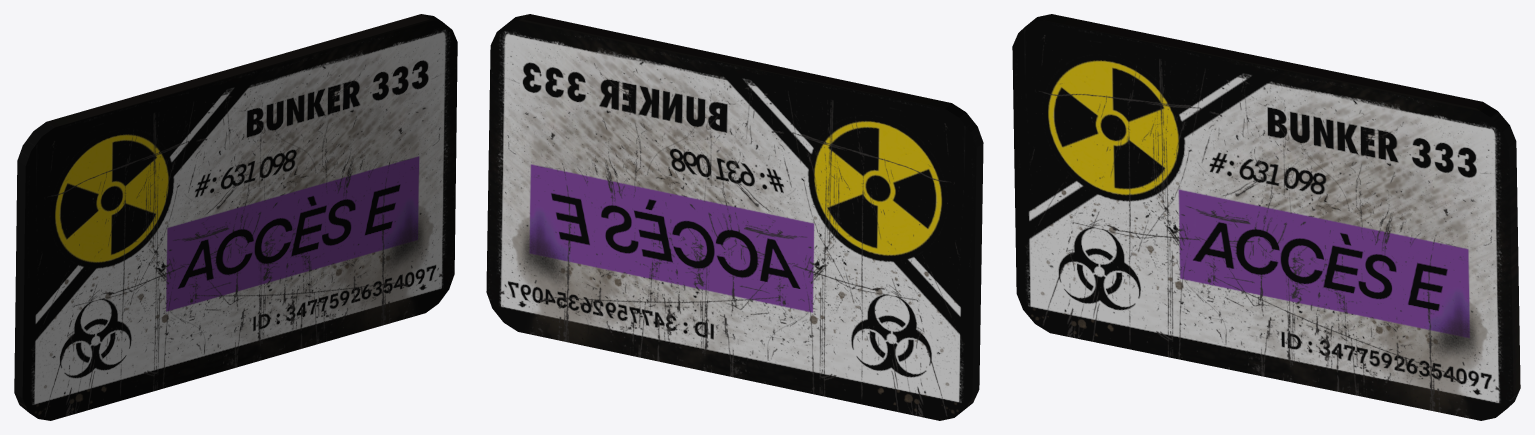
Rendered from CarteAccesE.fbx.
The picture shows the model from 3 angles, left to right: view 1: azimuth 30°, elevation 25°; view 2: azimuth 150°, elevation 25°; view 3: azimuth 330°, elevation 25°; orthographic projection. The views are drawn at different scales.
Visible parts, largest first — view 1: CarteAccesE; view 2: CarteAccesE; view 3: CarteAccesE.
Part boxes in pixels (x1,y1,x2,y2): CarteAccesE: [14, 14, 457, 420]; CarteAccesE: [486, 14, 983, 420]; CarteAccesE: [1012, 14, 1520, 420].
Bounding box in the file's own units: 10.01 × 6.34 × 1.09.
Materials: 1 (1 with a texture image).
